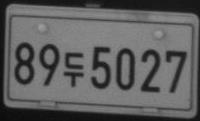0: (114, 47, 136, 90)
2: (139, 48, 161, 93)
5: (89, 45, 111, 89)
7: (165, 49, 188, 93)
8: (13, 41, 35, 85)
9: (38, 43, 60, 86)
두: (63, 51, 84, 87)
